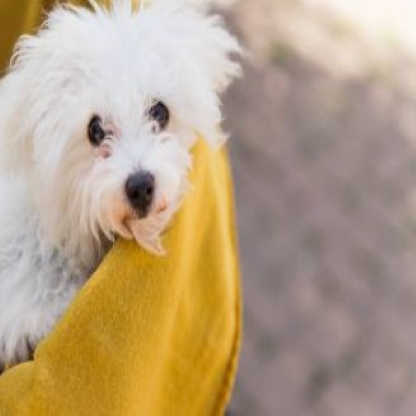maltese: (5, 3, 236, 347)
